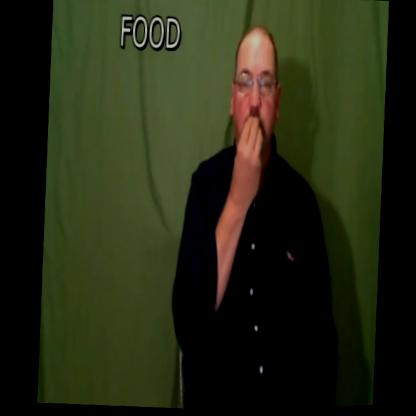Food: (207, 21, 290, 210)
